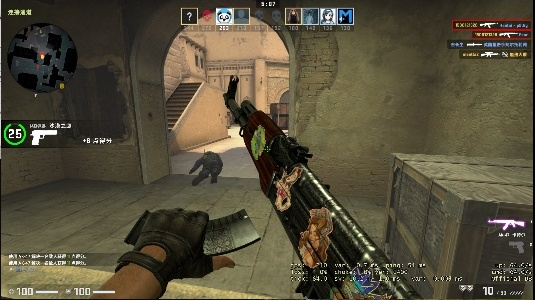body: (190, 150, 222, 187)
